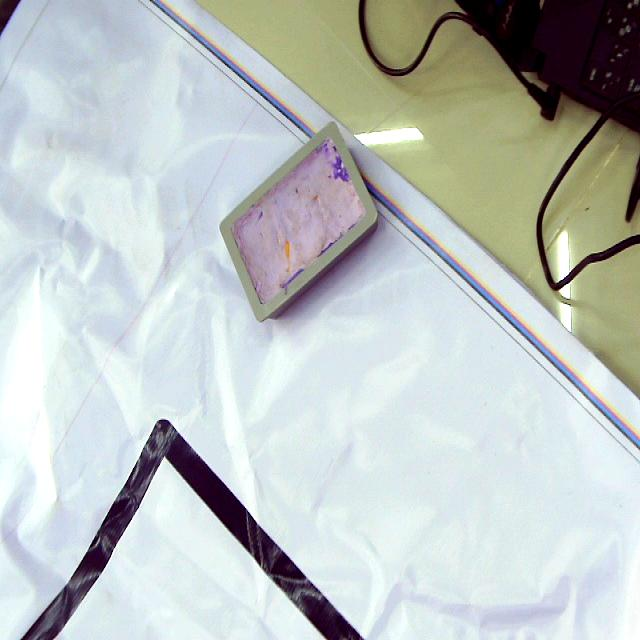block: (218, 121, 380, 322)
